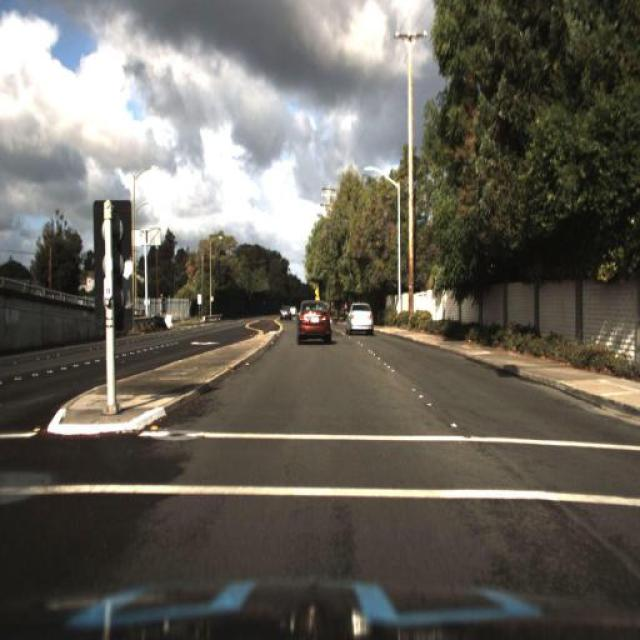car: (292, 293, 337, 346), (346, 301, 376, 337)
